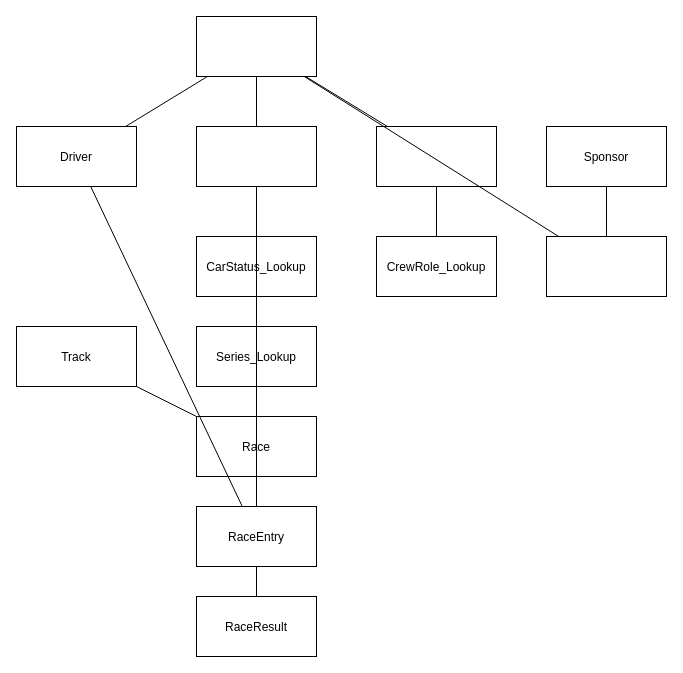
The diagram is 683 pixels wide and 673 high, and some of its shapes have lost their labels. The shapes that lost their labels are listed below. From the top down, each one's box as (x1, y1, x2, y2) in pixels, then its label:
(196, 16, 316, 76): Team
(196, 126, 316, 186): Car
(376, 126, 496, 186): CrewMember
(546, 236, 666, 296): Join_Team_Sponsor
